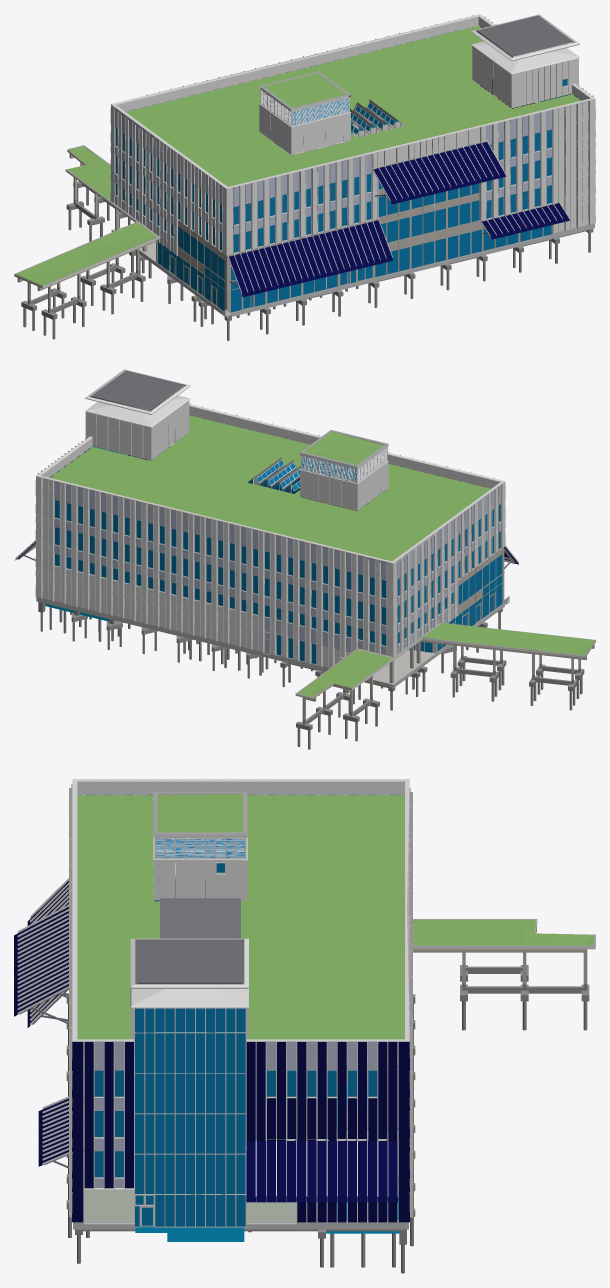
File: bouwcampus2_exterior.glb
The picture shows the model from 3 angles, top to bottom: view 1: azimuth 30°, elevation 25°; view 2: azimuth 150°, elevation 25°; view 3: azimuth 270°, elevation 25°; orthographic projection. The views are drawn at different scales.
Parts seen in each view (by area): view 1: IfcBuildingElementProxy/Frame-x.001; view 2: IfcBuildingElementProxy/Frame-x.001; view 3: IfcBuildingElementProxy/Frame-x.001.
Part boxes in pixels (<box>): IfcBuildingElementProxy/Frame-x.001: <box>14,14,595,340</box>; IfcBuildingElementProxy/Frame-x.001: <box>15,369,595,749</box>; IfcBuildingElementProxy/Frame-x.001: <box>14,778,595,1273</box>.
Size of the model in its own units: 81.18 by 29.49 by 51.7.
